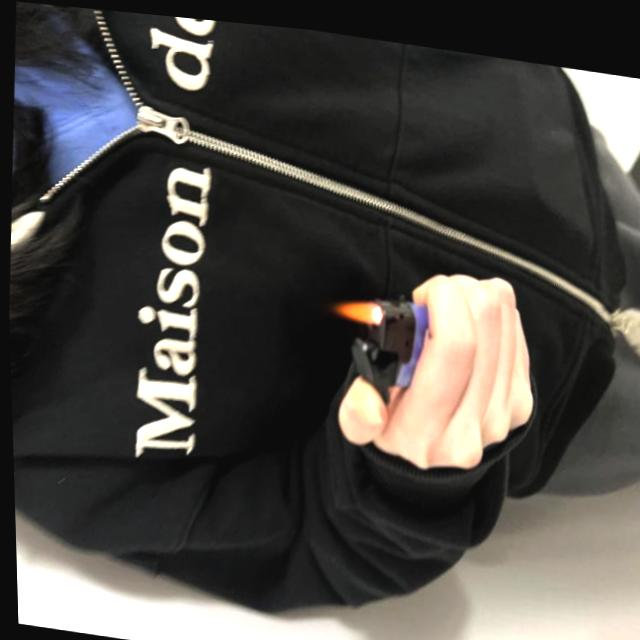Fire: (325, 286, 383, 319)
